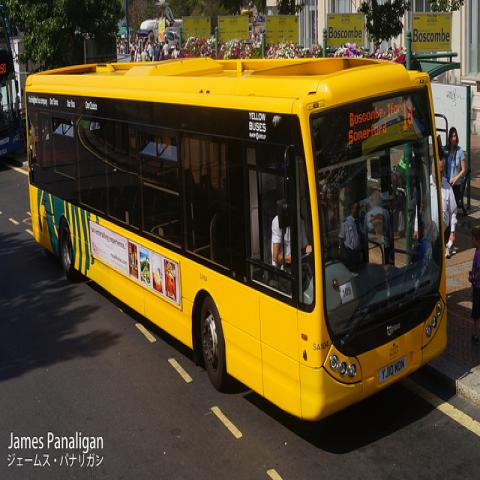bus: (26, 50, 452, 418)
